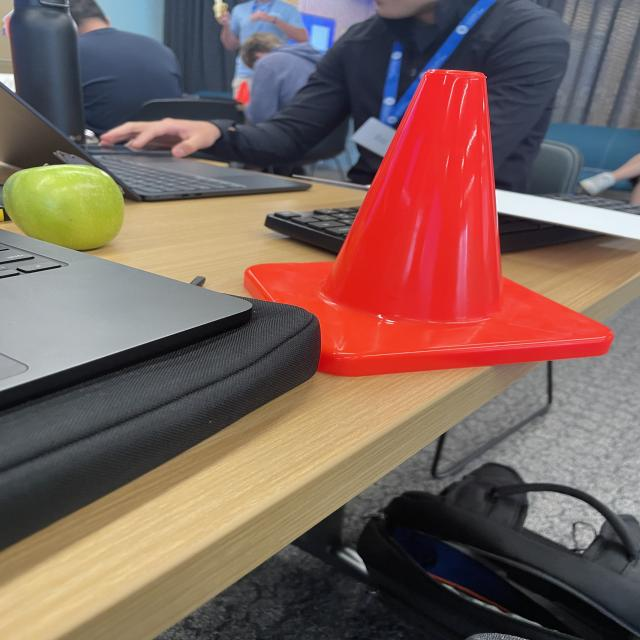Traffic Cone: (231, 65, 620, 384)
